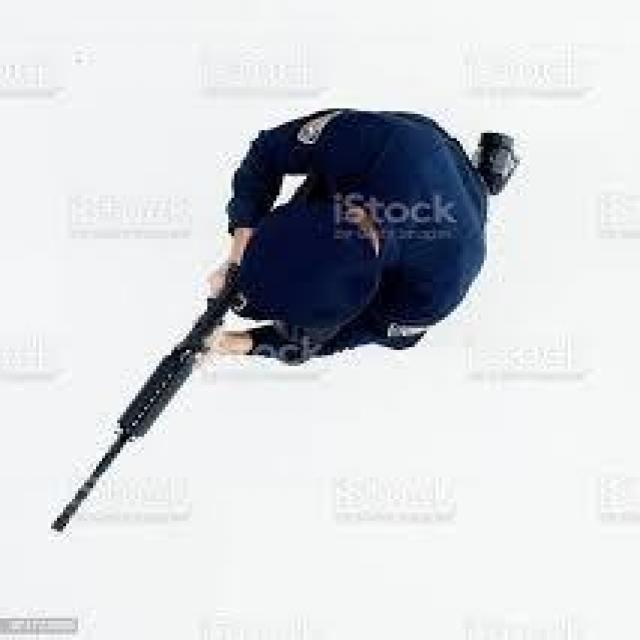gun: (50, 258, 258, 532)
